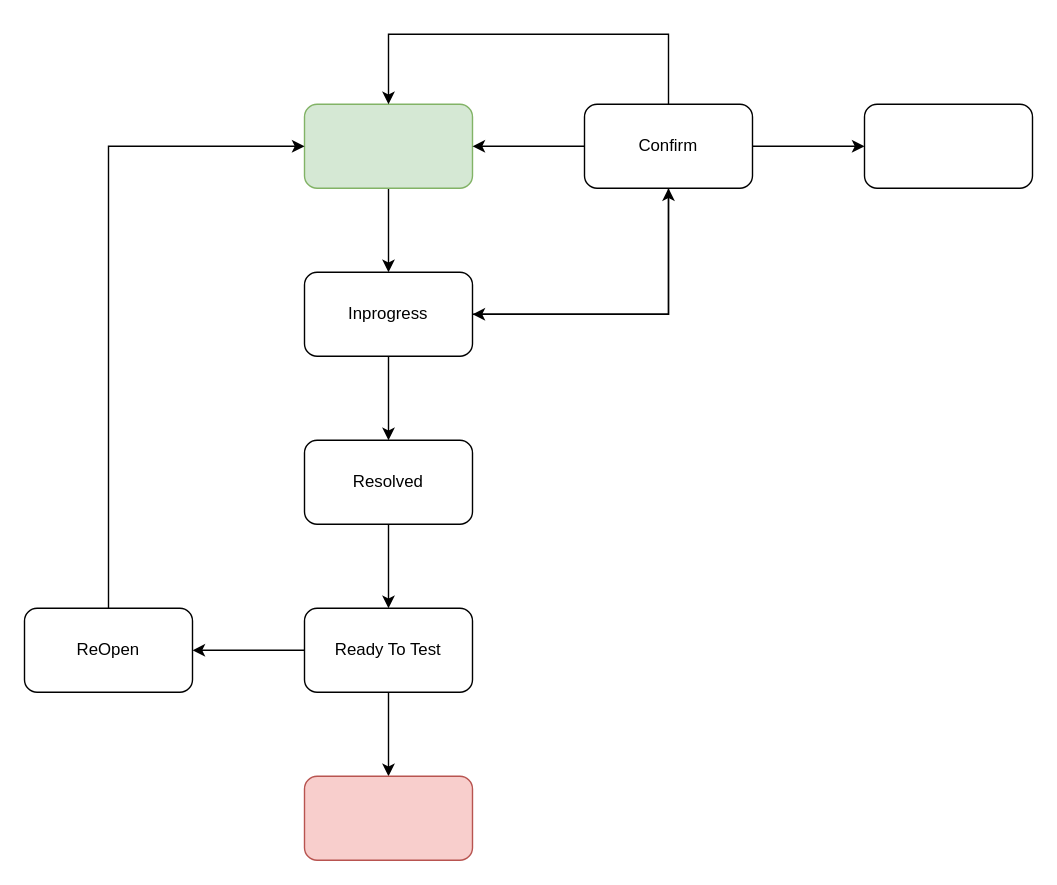
Image size: 1057x885. Some labels were removed from this diagram. The shapes that lost their labels are listed below. From the top down, each one's centre as x and y in pixels, then its label:
At (x=387, y=145): "To Do".
At (x=947, y=145): "Cancel".
At (x=387, y=817): "Closed".
